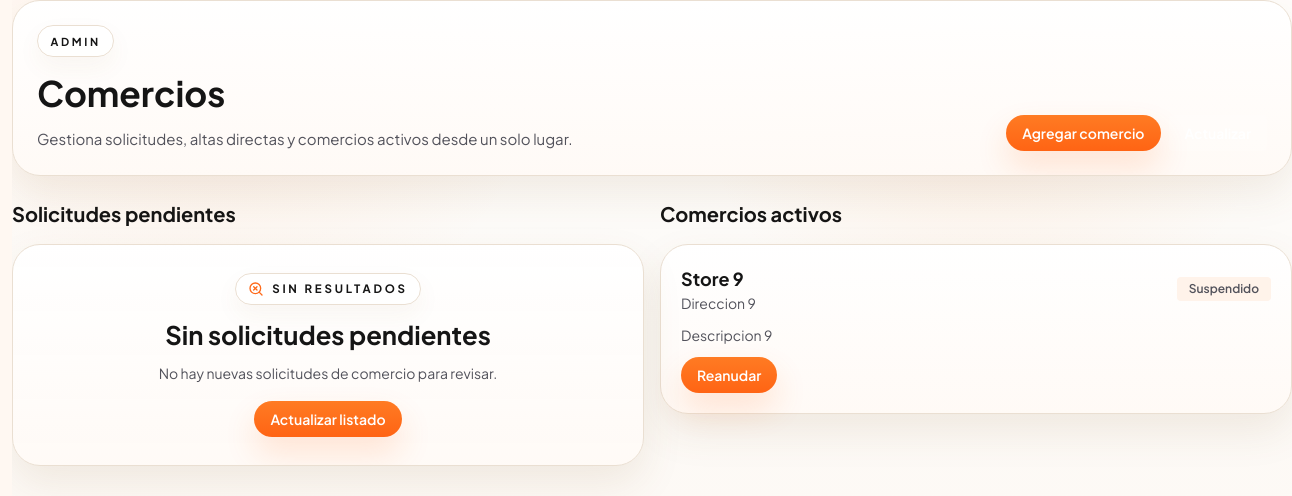
Scenario: StoresPage › reanuda un comercio suspendido y cambia la card de inmediato
The image size is (1292, 496).
Click the button "Reanudar" at (729, 375), box [681,357,777,393]
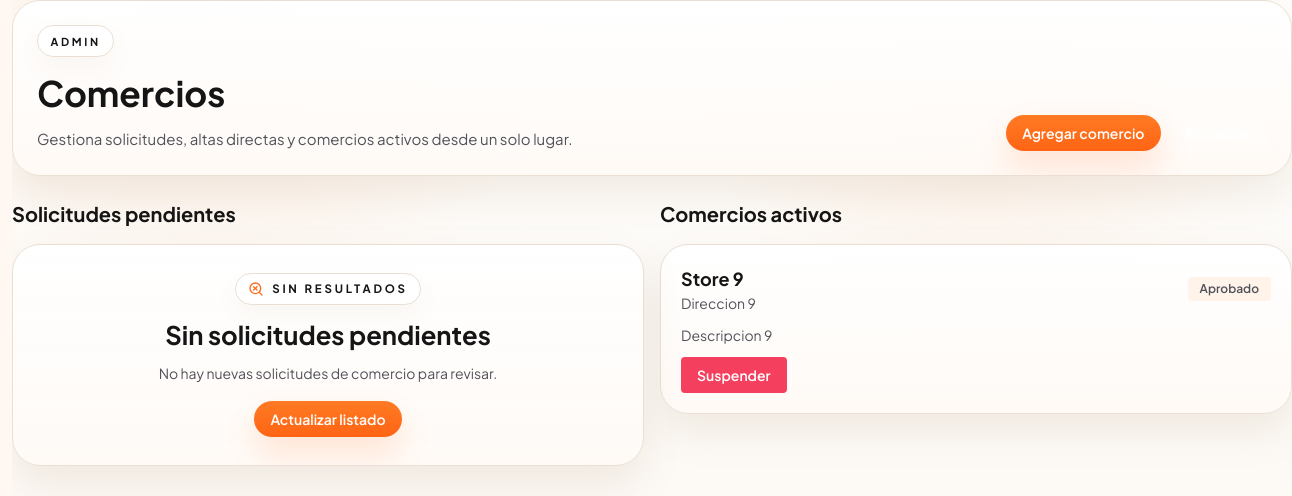
Expected: the text "Aprobado" is shown, [1188,277,1271,301]
Expected: the button "Suspender" is shown, [681,357,787,393]
